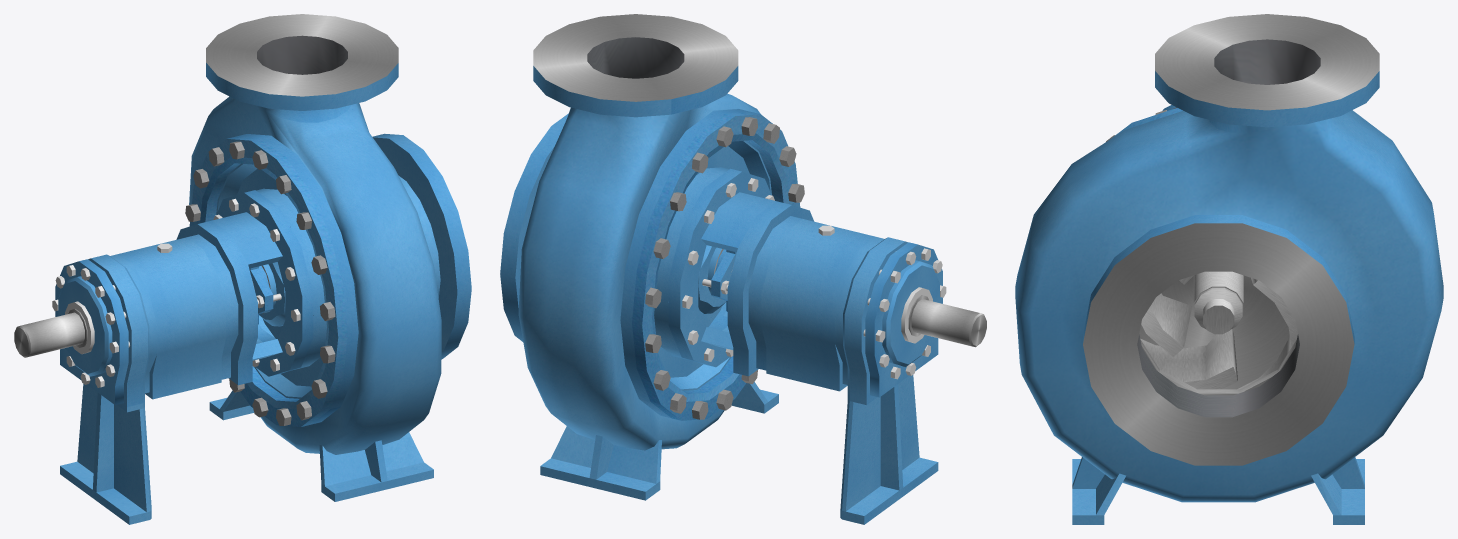
File: mCentrifugalPump.FBX
3 renders of one model, left to right at view 1: azimuth 30°, elevation 25°; view 2: azimuth 150°, elevation 25°; view 3: azimuth 270°, elevation 25°, orthographic. The views are drawn at different scales.
Parts seen in each view (by area): view 1: 100-CasingUnWrap, 228-BearingFrame, 768-CasingLug, 184-StuffingBoxCover, 134A-BearingHousing, screw2, 122-Shaft, screw3, screw1, 107-Gland003, 332A-LabyrinthSealOutboard; view 2: 100-CasingUnWrap, 228-BearingFrame, 768-CasingLug, 184-StuffingBoxCover, 134A-BearingHousing, screw2, 122-Shaft, screw3, screw1, 107-Gland003, 332A-LabyrinthSealOutboard; view 3: 100-CasingUnWrap, 101-Impeller.
Boxes of the visible parts, left/top/right/bottom form: 100-CasingUnWrap: left=189, top=14, right=471, bottom=501; 228-BearingFrame: left=60, top=190, right=313, bottom=524; 768-CasingLug: left=189, top=136, right=347, bottom=426; 184-StuffingBoxCover: left=216, top=163, right=326, bottom=398; 134A-BearingHousing: left=55, top=259, right=128, bottom=404; screw2: left=185, top=141, right=335, bottom=425; 122-Shaft: left=14, top=309, right=87, bottom=357; screw3: left=52, top=265, right=129, bottom=387; screw1: left=213, top=198, right=300, bottom=371; 107-Gland003: left=249, top=266, right=273, bottom=324; 332A-LabyrinthSealOutboard: left=65, top=301, right=94, bottom=354; 100-CasingUnWrap: left=500, top=14, right=778, bottom=500; 228-BearingFrame: left=668, top=168, right=938, bottom=524; 768-CasingLug: left=632, top=111, right=800, bottom=420; 184-StuffingBoxCover: left=654, top=140, right=771, bottom=390; 134A-BearingHousing: left=865, top=242, right=942, bottom=397; screw2: left=645, top=117, right=804, bottom=419; 122-Shaft: left=908, top=295, right=986, bottom=347; screw3: left=863, top=248, right=946, bottom=379; screw1: left=682, top=178, right=774, bottom=361; 107-Gland003: left=711, top=249, right=736, bottom=311; 332A-LabyrinthSealOutboard: left=901, top=287, right=932, bottom=343; 100-CasingUnWrap: left=1015, top=14, right=1443, bottom=524; 101-Impeller: left=1139, top=271, right=1297, bottom=395.
Size of the model in its own units: 364 by 331 by 295.
